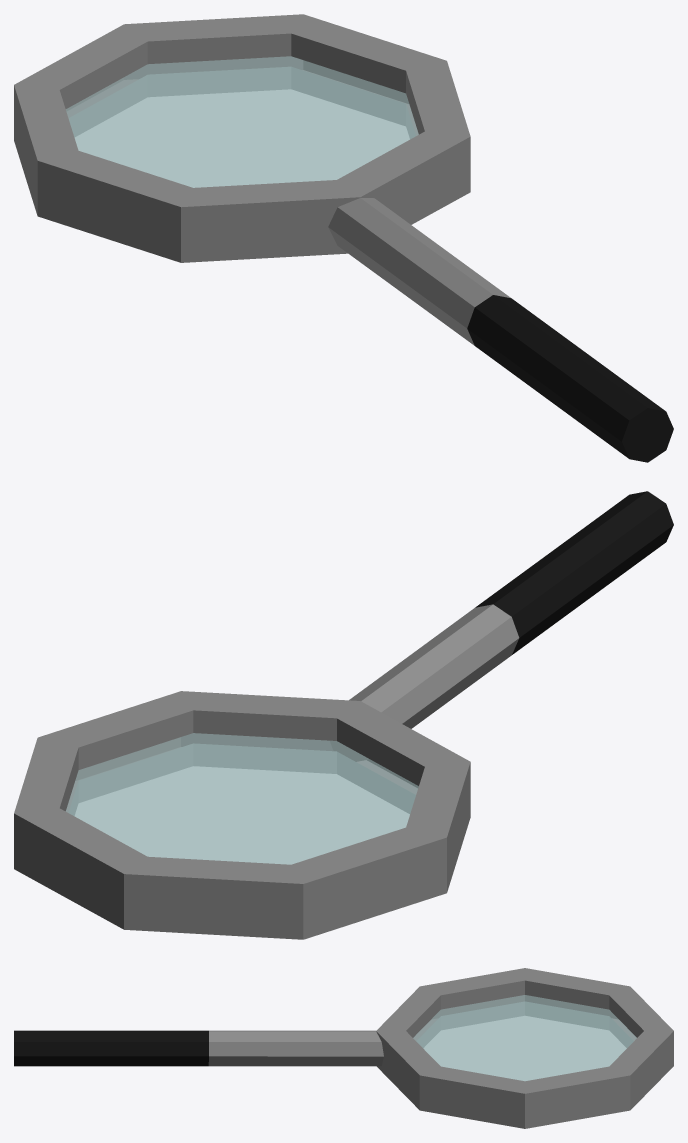
The model's file is Loupe.fbx.
3 renders of one model, top to bottom at view 1: azimuth 30°, elevation 25°; view 2: azimuth 150°, elevation 25°; view 3: azimuth 270°, elevation 25°, orthographic. The views are drawn at different scales.
Visible parts, largest first — view 1: pCylinder3; view 2: pCylinder3; view 3: pCylinder3.
Part boxes in pixels (x1,y1,x2,y2): pCylinder3: (14,14,673,462); pCylinder3: (14,491,673,939); pCylinder3: (14,968,673,1128).
Bounding box in the file's own units: 0.039 × 0.00508 × 0.0865.
